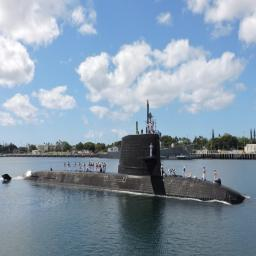submarine: (3, 95, 247, 206)
